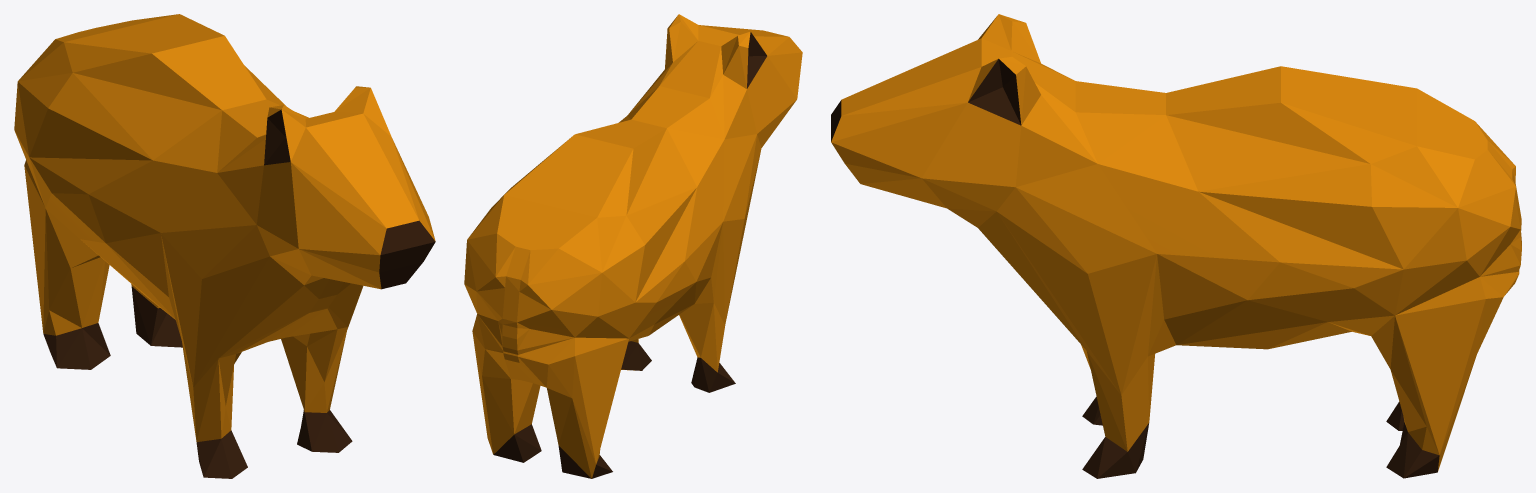
Rendered from capy_05.fbx.
3 views of the same model, side by side, from view 1: azimuth 30°, elevation 25°; view 2: azimuth 150°, elevation 25°; view 3: azimuth 270°, elevation 25° (orthographic). The views are drawn at different scales.
Parts seen in each view (by area): view 1: newcapy.001; view 2: newcapy.001; view 3: newcapy.001.
Boxes of the visible parts, <box> form: newcapy.001: <box>14,14,435,478</box>; newcapy.001: <box>464,14,802,478</box>; newcapy.001: <box>831,14,1521,478</box>.
Bounding box in the file's own units: 2301 × 4336 × 6650.
